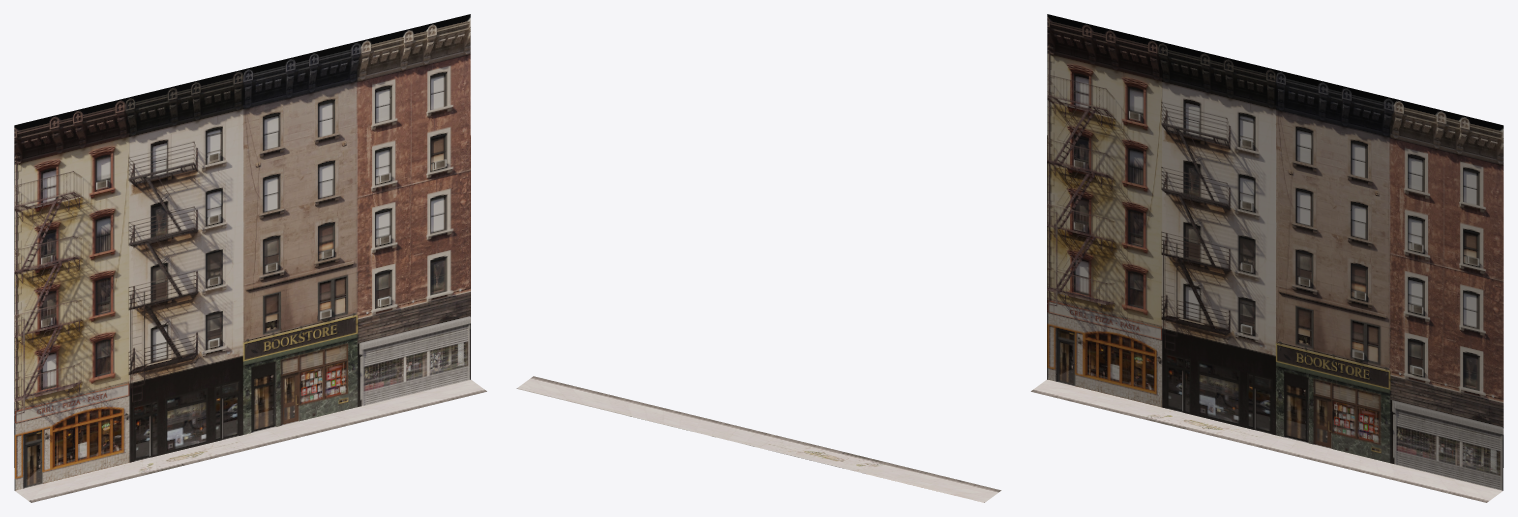
File: BuildingFront.glb
3 views of the same model, side by side, from view 1: azimuth 30°, elevation 25°; view 2: azimuth 150°, elevation 25°; view 3: azimuth 330°, elevation 25° (orthographic). The views are drawn at different scales.
Visible parts, largest first — view 1: new-york-facade-3d-model-max-fbx; view 2: new-york-facade-3d-model-max-fbx; view 3: new-york-facade-3d-model-max-fbx.
Part boxes in pixels (<box>): new-york-facade-3d-model-max-fbx: <box>14,14,486,502</box>; new-york-facade-3d-model-max-fbx: <box>516,376,1001,502</box>; new-york-facade-3d-model-max-fbx: <box>1031,14,1503,502</box>.
Bounding box in the file's own units: 20.93 × 16.01 × 1.34.
1 material, 1 textured.
